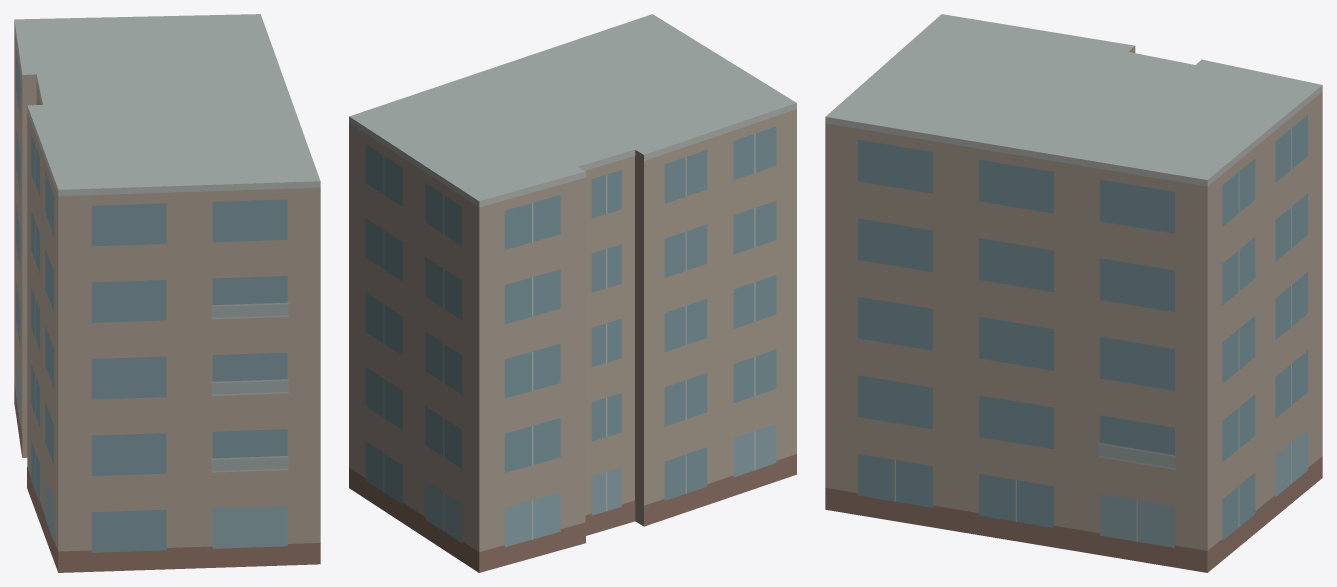
Rendered from survey-upis-32524745.glb.
3 views of the same model, side by side, from view 1: azimuth 30°, elevation 25°; view 2: azimuth 150°, elevation 25°; view 3: azimuth 270°, elevation 25° (orthographic). The views are drawn at different scales.
Visible parts, largest first — view 1: survey-upis-32524745.tmp; view 2: survey-upis-32524745.tmp; view 3: survey-upis-32524745.tmp.
Boxes of the visible parts, box(x1,y1,x2,y2) form: survey-upis-32524745.tmp: box(14, 14, 320, 572); survey-upis-32524745.tmp: box(349, 14, 796, 572); survey-upis-32524745.tmp: box(825, 14, 1322, 572).
Bounding box in the file's own units: 13.34 × 14.7 × 16.88.
